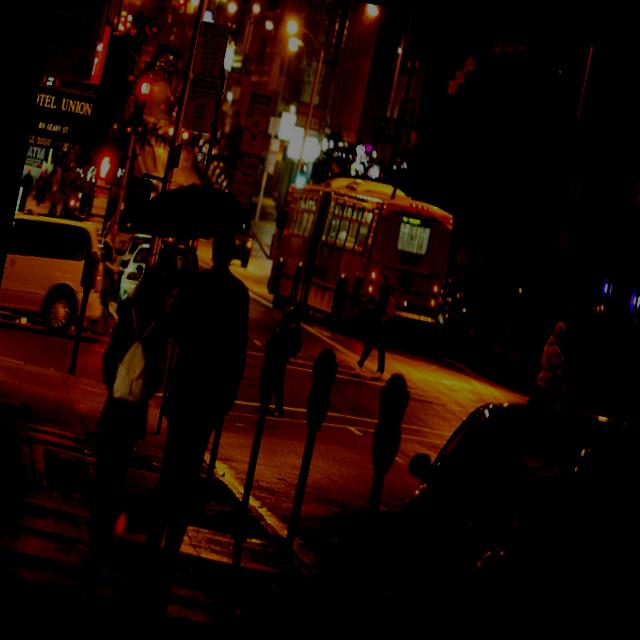Vehicle: (358, 376, 627, 640), (447, 420, 621, 640), (256, 164, 459, 352), (0, 199, 118, 340), (428, 286, 502, 364), (108, 228, 152, 302), (114, 239, 150, 315), (230, 228, 256, 268), (206, 162, 229, 186)
